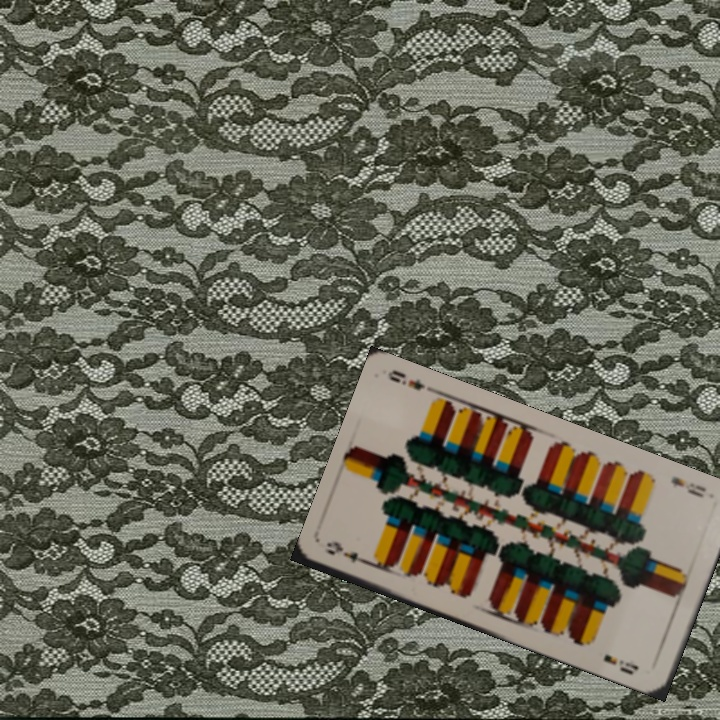E9: (320, 537, 379, 571), (667, 472, 709, 501)
